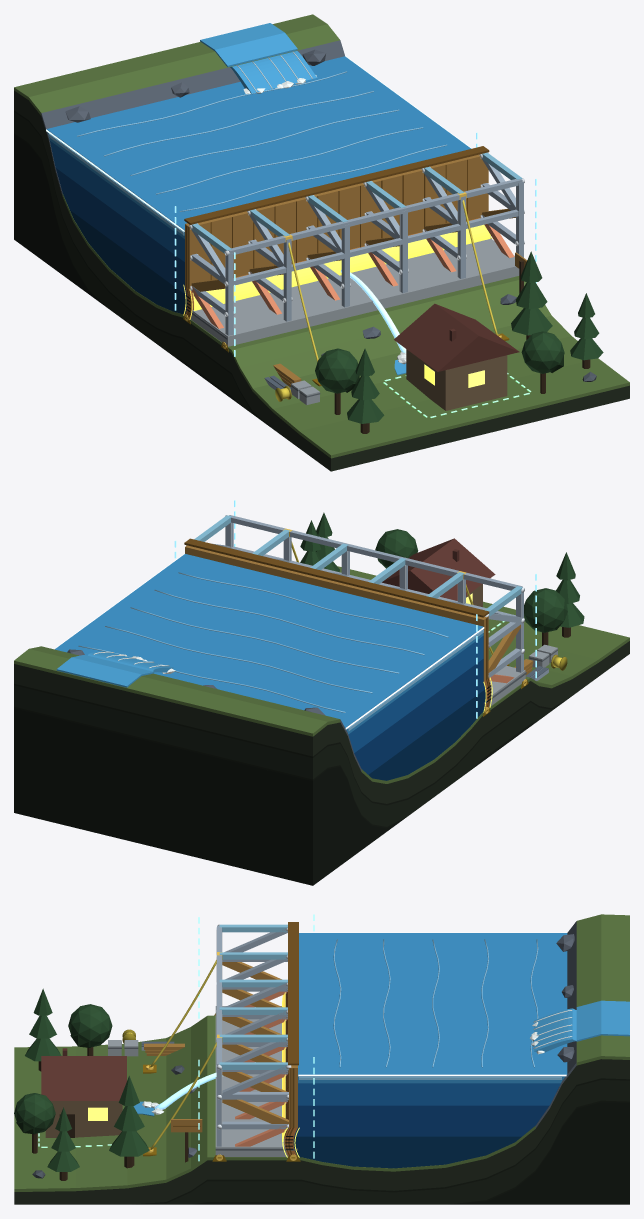
File: dam-island.glb
3 renders of one model, top to bottom at view 1: azimuth 30°, elevation 25°; view 2: azimuth 150°, elevation 25°; view 3: azimuth 270°, elevation 25°, orthographic. The views are drawn at different scales.
Parts seen in each view (by area): view 1: DB diorama matte, DB diorama gloss, DB diorama metal, DB diorama creep halo, DB diorama satin; view 2: DB diorama matte, DB diorama gloss, DB diorama metal, DB diorama water rim line; view 3: DB diorama matte, DB diorama gloss, DB diorama metal, DB diorama water rim line, DB diorama satin, DB diorama build zone dash, DB diorama leak jet.
Part boxes in pixels (<box>): DB diorama matte: <box>14,14,629,471</box>; DB diorama gloss: <box>46,23,471,375</box>; DB diorama metal: <box>183,152,523,401</box>; DB diorama creep halo: <box>183,224,492,319</box>; DB diorama satin: <box>189,51,524,364</box>; DB diorama matte: <box>14,512,629,885</box>; DB diorama gloss: <box>55,554,485,780</box>; DB diorama metal: <box>194,515,567,716</box>; DB diorama water rim line: <box>54,553,484,729</box>; DB diorama matte: <box>14,914,629,1204</box>; DB diorama gloss: <box>133,933,629,1168</box>; DB diorama metal: <box>122,924,300,1161</box>; DB diorama water rim line: <box>298,932,566,1076</box>; DB diorama satin: <box>142,924,572,1129</box>; DB diorama build zone dash: <box>198,914,314,1161</box>; DB diorama leak jet: <box>154,1072,223,1109</box>.
Size of the model in its own units: 4.96 by 2.43 by 9.01.
